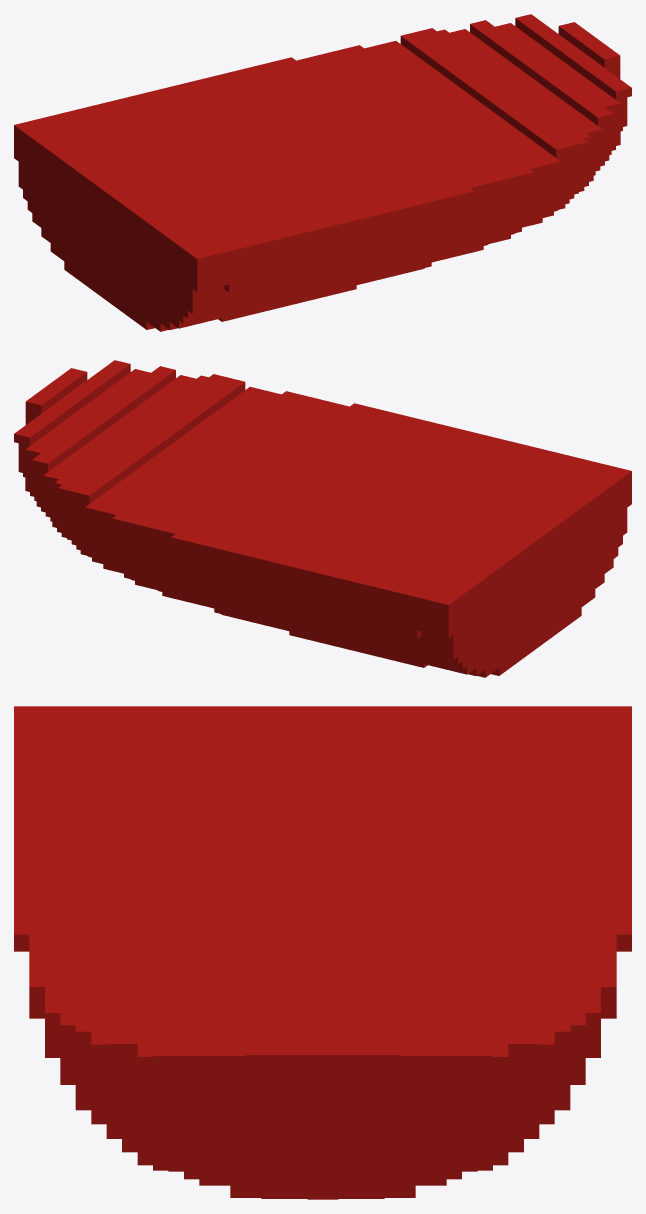
The model's file is light_helicopter_belly.glb.
The picture shows the model from 3 angles, top to bottom: view 1: azimuth 30°, elevation 25°; view 2: azimuth 150°, elevation 25°; view 3: azimuth 270°, elevation 25°; orthographic projection. The views are drawn at different scales.
Parts seen in each view (by area): view 1: body:compound; view 2: body:compound; view 3: body:compound.
Part boxes in pixels (<box>): body:compound: <box>14,14,631,331</box>; body:compound: <box>14,360,631,677</box>; body:compound: <box>14,706,631,1199</box>.
Bounding box in the file's own units: 1.94 × 0.5625 × 1.25.
